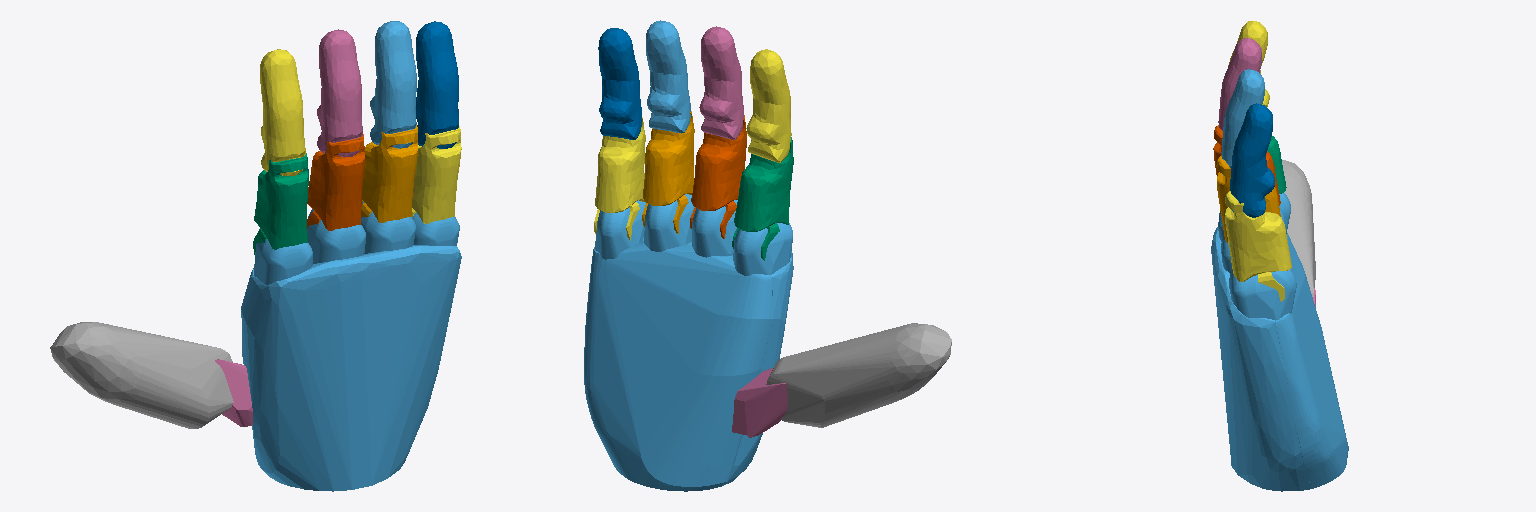
The robot description file, URDF, robot "ability_hand":
<!--
	NOTES:
	Units:
		Distance: m
		Angles: rad (only option)
		Mass: kg
		Inertia: kg*m^2
		
	Notes on intertia:
		-The inertias are calculated for uniform density with weights that may or may not be accurate.
		At the time of this writing only the thumb flexor weight is correct. The palm is a 'best guess' 
		approximation and the fingers are likely off by an order of magnitude
	
	Notes on finger q2:
		-The hand is a 4 bar linkage mechanism forming an 'X'. 4 bar linkages are not supported in the 
		urdf format. The motion of the second finger joint is fully defined by the motion of the first 
		finger joint. The calculation to find the index finger second joint angle given the first is provided
		in a matlab script elsewhere in this repository.
-->
<robot name="ability_hand">


	<link name="base">
		<visual name="wrist_mesh">
			<origin rpy = "0 0 0" xyz = "0 0 0"/>
			<geometry>
				<mesh filename="meshes_use/wristmesh.obj"/>
			</geometry>
		</visual>
		<collision>  													<!-- wrist_mesh -->
		<origin
			xyz="0 0 0"
			rpy="0 0 0" />
		<geometry>
			<mesh
			filename="meshes_use/wristmesh_C.obj" />
		</geometry>
		</collision>
		<collision> 
		<origin
			xyz="0.013 -0.002 0.01"
			rpy="0 0 -0.07" />
		<geometry>
			<box size="0.01 0.01 0.008"/>
		</geometry>
		</collision>
		<collision> 
		<origin
			xyz="-0.013 0 0.01"
			rpy="0 0 -0.07" />
		<geometry>
			<box size="0.01 0.01 0.008"/>
		</geometry>
		</collision>		
		<inertial>	<!-- the mass and inertia here are NOT correct -->
			<mass value = "0.200"/>
			<inertia ixx="978.26e-6" ixy = "87.34e-6" ixz = "322.99e-6" iyy = "1244.78e-6" iyz = "244.74e-6" izz = "456.22e-6" />
			<origin xyz = "22.41911e-3 -0.15798201e-3 -0.01319866e-3" rpy = "0 0 0"/>
		</inertial>
	</link>

	<joint name="wrist2thumb" type="fixed">
		<parent link="base"/>
		<child link="thumb_base"/>
		<origin xyz = "-24.0476665e-3 3.78124745e-3 32.32964923e-3" rpy = "3.14148426 -0.08848813 -3.14036612"/>
	</joint>






  
	<link name="thumb_base" >
		<inertial>
			<mass value = "0.200"/>
			<inertia ixx="978.26e-6" ixy = "87.34e-6" ixz = "322.99e-6" iyy = "1244.78e-6" iyz = "244.74e-6" izz = "456.22e-6" />
			<origin xyz = "22.41911e-3 -0.15798201e-3 -0.01319866e-3" rpy = "0 0 0"/>
		</inertial>
						
		<visual name="palm_mesh">
			<origin rpy = "0 0 0" xyz = "0 0 0"/>
			<geometry>
				<mesh filename="meshes_use/FB_palm_ref_MIR.obj"/>
			</geometry>
		</visual>
		<collision>																  <!-- thumb_base -->
		<origin
			xyz="0 0 0"
			rpy="0 0 0" />
		<geometry>
			<mesh
			filename="meshes_use/FB_palm_ref_MIR_C.obj" />
		</geometry>
		</collision>				
	</link>
	

	



	<link name="index_L1" >
		<inertial>
			<mass value = "0.00635888"/>
			<inertia ixx="0.29766e-6" ixy = "-0.06447133e-6" ixz = "-0.00423315e-6" iyy = "3.6947967e-6" iyz = "0.00083028e-6" izz = "3.8176336e-6" />
			<origin xyz = "22.41911e-3 -0.15798201e-3 -0.01319866e-3" rpy = "0 0 0"/>
		</inertial>
		<visual name="index_mesh_1">
			<origin xyz = "38.472723e-3 3.257695e-3 0.000000" rpy = "0 0 0.084474"/>
			<geometry>
				<mesh filename="meshes_use/idx-F1.obj"/>
			</geometry>
		</visual>
		<collision> 													   			<!-- index_L1 -->
		<origin
			xyz="0.036 -0.00175 0"
			rpy="0 0 0" />
		<geometry>
        	<sphere radius="0.0085"/>
        </geometry>
		</collision>
		<collision> 
		<origin
			xyz="0.019 0.0004 0"
			rpy="0 0 0.0845" />
		<geometry>
			<box size="0.028 0.024 0.016"/>
		</geometry>
		</collision>
		<collision> 
		<origin
			xyz="-0.001 0 0.007"
			rpy="0 0 0.0845" />
		<geometry>
			<box size="0.012 0.012 0.002"/>
		</geometry>
		</collision>
		<collision> 
		<origin
			xyz="-0.001 0 -0.007"
			rpy="0 0 0.0845" />
		<geometry>
			<box size="0.012 0.012 0.002"/>
		</geometry>
		</collision>
	</link>



	<link name="index_L2" >
		<inertial>
			<mass value = "0.00645"/>
			<inertia ixx="0.82671e-6" ixy = "-1.08876e-6" ixz = "-0.00037e-6" iyy = "1.98028e-6" iyz = "0.00081e-6" izz = "2.64638e-6" />
			<origin rpy = "0 0 0" xyz = "13.36818e-3 -8.75392e-3 -0.02886e-3"/>
		</inertial>		
		<visual name="index_mesh_2">
			<origin rpy = "0 0 0" xyz = "9.1241e-3 0 0"/>
			<geometry>
				<mesh filename="meshes_use/idx-F2.obj"/>
			</geometry>
		</visual>
		<collision>  													<!-- index_L2 -->
		<origin
			xyz="0 0 0"
			rpy="0 0 0" />
		<geometry>
			<mesh
			filename="meshes_use/idx-F2_C.obj" />
		</geometry>
		</collision>
		<collision> 
		<origin
			xyz="0.03 -0.016 0"
			rpy="0 0 0" />
		<geometry>
			<sphere radius="0.007"/>
		</geometry>
		</collision>
	</link>
	<joint name="index_q1" type="revolute">
		<parent link="thumb_base"/>
		<child link="index_L1"/>
		<origin xyz = " 9.49e-3 -13.04e-3 -62.95e-3 " rpy = " -1.1595426535897932 1.284473 -1.0510016535897932 " />
		<axis xyz="0 0 1"/>
		<limit lower = "0" upper = "2.0943951" effort = "6.0" velocity = "8.0677777442"/>		<!-- angles in rad, efforts in N-m, velocity in rad/s -->
		<dynamics damping = "0.001" friction = "0.001" />	<!-- Friction coefficient is not from quantitative measurement -->
	</joint>
	<joint name="index_q2" type="revolute">
		<parent link="index_L1"/>
		<child link="index_L2"/>
		<origin xyz = "38.472723e-3 3.257695e-3 0.000000e-3" rpy = "0 0 0.084474"/>
		<axis xyz="0 0 1"/>
		<limit lower = "0.0" upper = "2.6586" effort = "6.0" velocity = "8.0677777442"/>		<!-- angles in rad, efforts in N-m, velocity in rad/s -->
		<dynamics damping = "0.001" friction = "0.001" />	<!-- Friction coefficient is not from quantitative measurement -->
		<mimic joint = "index_q1" multiplier =  "1.05851325" offset = "0.72349796"/>
	</joint>
	<link name="index_anchor"/>
	<joint name="idx_anchor" type="fixed">
		<parent link = "index_L2"/>
		<child link = "index_anchor"/>
		<origin rpy = "0 0 0" xyz = "31.5541e-3  -10.44e-3 0.14e-3"/>
	</joint>
	









	<link name="middle_L1" >
		<inertial>
			<mass value = "0.00635888"/>
			<inertia ixx="0.29766e-6" ixy = "-0.06447133e-6" ixz = "-0.00423315e-6" iyy = "3.6947967e-6" iyz = "0.00083028e-6" izz = "3.8176336e-6" />
			<origin xyz = "22.41911e-3 -0.15798201e-3 -0.01319866e-3" rpy = "0 0 0"/>
		</inertial>
		
		<visual name="middle_mesh_1">
			<origin xyz = "38.472723e-3 3.257695e-3 0.000000" rpy = "0 0 0.084474"/>
			<geometry>
				<mesh filename="meshes_use/idx-F1.obj"/>
			</geometry>
		</visual>
		<collision> 													   			<!-- middle_L1 -->
		<origin
			xyz="0.036 -0.00175 0"
			rpy="0 0 0" />
		<geometry>
        	<sphere radius="0.0085"/>
        </geometry>
		</collision>
		<collision> 
		<origin
			xyz="0.019 0.0004 0"
			rpy="0 0 0.0845" />
		<geometry>
			<box size="0.028 0.024 0.016"/>
		</geometry>
		</collision>
		<collision> 
		<origin
			xyz="-0.001 0 0.007"
			rpy="0 0 0.0845" />
		<geometry>
			<box size="0.012 0.012 0.002"/>
		</geometry>
		</collision>
		<collision> 
		<origin
			xyz="-0.001 0 -0.007"
			rpy="0 0 0.0845" />
		<geometry>
			<box size="0.012 0.012 0.002"/>
		</geometry>
		</collision>
	</link>



	<link name="middle_L2" >
		<inertial>
			<mass value = "0.00645"/>
			<inertia ixx="0.82671e-6" ixy = "-1.08876e-6" ixz = "-0.00037e-6" iyy = "1.98028e-6" iyz = "0.00081e-6" izz = "2.64638e-6" />
			<origin rpy = "0 0 0" xyz = "13.36818e-3 -8.75392e-3 -0.02886e-3"/>
		</inertial>
		<visual name="middle_mesh_2">
			<origin rpy = "0 0 0" xyz = "9.1241e-3 0 0"/>
			<geometry>
				<mesh filename="meshes_use/idx-F2.obj"/>
			</geometry>
		</visual>
		<collision>  													<!-- middle_L2 -->
		<origin
			xyz="0 0 0"
			rpy="0 0 0" />
		<geometry>
			<mesh
			filename="meshes_use/idx-F2_C.obj" />
		</geometry>
		</collision>
		<collision> 
		<origin
			xyz="0.03 -0.016 0"
			rpy="0 0 0" />
		<geometry>
			<sphere radius="0.007"/>
		</geometry>
		</collision>
	</link>
	<joint name="middle_q1" type="revolute">
		<parent link="thumb_base"/>
		<child link="middle_L1"/>
		<origin xyz = " -9.653191e-3 -15.310271e-3 -67.853949e-3 " rpy = " -1.2810616535897934 1.308458 -1.2453756535897933 " />
		<limit lower = "0" upper = "2.0943951" effort = "6.0" velocity = "8.0677777442"/>		<!-- angles in rad, efforts in N-m, velocity in rad/s -->
		<dynamics damping = "0.001" friction = "0.001" />	<!-- Friction coefficient is not from quantitative measurement -->
		<axis xyz="0 0 1"/>
	</joint>
	<joint name="middle_q2" type="revolute">
		<parent link="middle_L1"/>
		<child link="middle_L2"/>
		<origin xyz = "38.472723e-3 3.257695e-3 0.000000" rpy = "0 0 0.084474"/>
		<axis xyz="0 0 1"/>
		<limit lower = "0.0" upper = "2.6586" effort = "6.0" velocity = "8.0677777442"/>		<!-- angles in rad, efforts in N-m, velocity in rad/s -->
		<dynamics damping = "0.001" friction = "0.001" />	<!-- Friction coefficient is not from quantitative measurement -->
		<mimic joint = "middle_q1" multiplier =  "1.05851325" offset = "0.72349796"/>
	</joint>
	<link name="middle_anchor"/>
	<joint name="mid_anchor" type="fixed">
		<parent link = "middle_L2"/>
		<child link = "middle_anchor"/>
		<origin rpy = "0 0 0" xyz = "31.5541e-3  -10.44e-3 0.14e-3"/>
	</joint>







	<link name="ring_L1" >
		<inertial>
			<mass value = "0.00635888"/>
			<inertia ixx="0.29766e-6" ixy = "-0.06447133e-6" ixz = "-0.00423315e-6" iyy = "3.6947967e-6" iyz = "0.00083028e-6" izz = "3.8176336e-6" />
			<origin xyz = "22.41911e-3 -0.15798201e-3 -0.01319866e-3" rpy = "0 0 0"/>
		</inertial>
		
		<visual name="ring_mesh_1">
			<origin xyz = "38.472723e-3 3.257695e-3 0.000000" rpy = "0 0 0.084474"/>
			<geometry>
				<mesh filename="meshes_use/idx-F1.obj"/>
			</geometry>
		</visual>
		<collision> 													   			<!-- ring_L1 -->
		<origin
			xyz="0.036 -0.00175 0"
			rpy="0 0 0" />
		<geometry>
        	<sphere radius="0.0085"/>
        </geometry>
		</collision>
		<collision> 
		<origin
			xyz="0.019 0.0009 0"
			rpy="0 0 0.0845" />
		<geometry>
			<box size="0.028 0.024 0.016"/>
		</geometry>
		</collision>
		<collision> 
		<origin
			xyz="-0.001 0 0.007"
			rpy="0 0 0.0845" />
		<geometry>
			<box size="0.012 0.012 0.002"/>
		</geometry>
		</collision>
		<collision> 
		<origin
			xyz="-0.001 0 -0.007"
			rpy="0 0 0.0845" />
		<geometry>
			<box size="0.012 0.012 0.002"/>
		</geometry>
		</collision>
	</link>


	<link name="ring_L2" >
		<inertial>
			<mass value = "0.00645"/>
			<inertia ixx="0.82671e-6" ixy = "-1.08876e-6" ixz = "-0.00037e-6" iyy = "1.98028e-6" iyz = "0.00081e-6" izz = "2.64638e-6" />
			<origin rpy = "0 0 0" xyz = "13.36818e-3 -8.75392e-3 -0.02886e-3"/>
		</inertial>
		<visual name="ring_mesh_2">
			<origin rpy = "0 0 0" xyz = "9.1241e-3 0 0"/>
			<geometry>
				<mesh filename="meshes_use/idx-F2.obj"/>
			</geometry>
		</visual>	
		<collision>  													<!-- ring_L2 -->
		<origin
			xyz="0 0 0"
			rpy="0 0 0" />
		<geometry>
			<mesh
			filename="meshes_use/idx-F2_C.obj" />
		</geometry>
		</collision>
		<collision> 
		<origin
			xyz="0.03 -0.016 0"
			rpy="0 0 0" />
		<geometry>
			<sphere radius="0.007"/>
		</geometry>
		</collision>			
	</link>
	<joint name="ring_q1" type="revolute">
		<parent link="thumb_base"/>
		<child link="ring_L1"/>
		<origin xyz = " -29.95426e-3 -14.212492e-3 -67.286105e-3 " rpy = " -1.424994653589793 1.321452 -1.4657306535897934 " />
		<limit lower = "0" upper = "2.0943951" effort = "6.0" velocity = "8.0677777442"/>		<!-- angles in rad, efforts in N-m, velocity in rad/s -->
		<dynamics damping = "0.001" friction = "0.001" />	<!-- Friction coefficient is not from quantitative measurement -->
		<axis xyz="0 0 1"/>
	</joint>
	<joint name="ring_q2" type="revolute">
		<parent link="ring_L1"/>
		<child link="ring_L2"/>
		<origin xyz = "38.472723e-3 3.257695e-3 0.000000" rpy = "0 0 0.084474"/>
		<axis xyz="0 0 1"/>
		<limit lower = "0.0" upper = "2.6586" effort = "6.0" velocity = "8.0677777442"/>		<!-- angles in rad, efforts in N-m, velocity in rad/s -->
		<dynamics damping = "0.001" friction = "0.001" />	<!-- Friction coefficient is not from quantitative measurement -->
		<mimic joint = "ring_q1" multiplier =  "1.05851325" offset = "0.72349796"/>
	</joint>
	<link name="ring_anchor"/>
	<joint name="rng_anchor" type="fixed">
		<parent link = "ring_L2"/>
		<child link = "ring_anchor"/>
		<origin rpy = "0 0 0" xyz = "31.5541e-3  -10.44e-3 0.14e-3"/>
	</joint>







	<link name="pinky_L1" >
		<inertial>
			<mass value = "0.00635888"/>
			<inertia ixx="0.29766e-6" ixy = "-0.06447133e-6" ixz = "-0.00423315e-6" iyy = "3.6947967e-6" iyz = "0.00083028e-6" izz = "3.8176336e-6" />
			<origin xyz = "22.41911e-3 -0.15798201e-3 -0.01319866e-3" rpy = "0 0 0"/>
		</inertial>
		
		<visual name="pinky_mesh_1">
			<origin xyz = "38.472723e-3 3.257695e-3 0.000000" rpy = "0 0 0.084474"/>
			<geometry>
				<mesh filename="meshes_use/idx-F1.obj"/>
			</geometry>
		</visual>
		<collision> 													   			<!-- pinky_L1 -->
		<origin
			xyz="0.036 -0.00175 0"
			rpy="0 0 0" />
		<geometry>
        	<sphere radius="0.0085"/>
        </geometry>
		</collision>
		<collision> 
		<origin
			xyz="0.019 0.0009 0"
			rpy="0 0 0.0845" />
		<geometry>
			<box size="0.028 0.024 0.016"/>
		</geometry>
		</collision>
		<collision> 
		<origin
			xyz="-0.001 0 0.007"
			rpy="0 0 0.0845" />
		<geometry>
			<box size="0.012 0.012 0.002"/>
		</geometry>
		</collision>
		<collision> 
		<origin
			xyz="-0.001 0 -0.007"
			rpy="0 0 0.0845" />
		<geometry>
			<box size="0.012 0.012 0.002"/>
		</geometry>
		</collision>
	</link>


	<link name="pinky_L2" >
		<inertial>
			<mass value = "0.00645"/>
			<inertia ixx="0.82671e-6" ixy = "-1.08876e-6" ixz = "-0.00037e-6" iyy = "1.98028e-6" iyz = "0.00081e-6" izz = "2.64638e-6" />
			<origin rpy = "0 0 0" xyz = "13.36818e-3 -8.75392e-3 -0.02886e-3"/>
		</inertial>
		<visual name="pinky_mesh_2">
			<origin rpy = "0 0 0" xyz = "9.1241e-3 0 0"/>
			<geometry>
				<mesh filename="meshes_use/idx-F2.obj"/>
			</geometry>
		</visual>
		<collision>  													<!-- pinky_L2 -->
		<origin
			xyz="0 0 0"
			rpy="0 0 0" />
		<geometry>
			<mesh
			filename="meshes_use/idx-F2_C.obj" />
		</geometry>
		</collision>
		<collision> 
		<origin
			xyz="0.03 -0.016 0"
			rpy="0 0 0" />
		<geometry>
			<sphere radius="0.007"/>
		</geometry>
		</collision>		
	</link>
	<joint name="pinky_q1" type="revolute">
		<parent link="thumb_base"/>
		<child link="pinky_L1"/>
		<origin xyz = " -49.521293e-3 -11.004583e-3 -63.029065e-3 " rpy = " -1.3764826535897934 1.32222 -1.4832096535897932 " />
		<limit lower = "0" upper = "2.0943951" effort = "6.0" velocity = "8.0677777442"/>		<!-- angles in rad, efforts in N-m, velocity in rad/s -->
		<dynamics damping = "0.001" friction = "0.001" />	<!-- Friction coefficient is not from quantitative measurement -->
		<axis xyz="0 0 1"/>
	</joint>
	<joint name="pinky_q2" type="revolute">
		<parent link="pinky_L1"/>
		<child link="pinky_L2"/>
		<origin xyz = "38.472723e-3 3.257695e-3 0.000000" rpy = "0 0 0.084474"/>
		<limit lower = "0.0" upper = "2.6586" effort = "6.0" velocity = "8.0677777442"/>		<!-- angles in rad, efforts in N-m, velocity in rad/s -->
		<dynamics damping = "0.001" friction = "0.001" />	<!-- Friction coefficient is not from quantitative measurement -->
		<axis xyz="0 0 1"/>
		<mimic joint = "pinky_q1" multiplier =  "1.05851325" offset = "0.72349796"/>
	</joint>
	<link name="pinky_anchor"/>
	<joint name="pnky_anchor" type="fixed">
		<parent link = "pinky_L2"/>
		<child link = "pinky_anchor"/>
		<origin rpy = "0 0 0" xyz = "31.5541e-3  -10.44e-3 0.14e-3"/>
	</joint>









	<link name="thumb_L1" >
		<inertial>
			<mass value = "0.00268342"/>
			<inertia ixx="0.16931e-6" ixy = "-0.076214e-6" ixz = "-0.16959148e-6" iyy = "0.77769934e-6" iyz = "0.0156622e-6" izz = "0.7249122e-6" />
			<origin rpy = "0 0 0" xyz = "14.606e-3 -1.890854e-3 -3.1155356e-3"/>
		</inertial>
		
		<visual name="thumb_mesh_1">
			<origin xyz = " 27.8283501e-3 1.7436510745838653e-19 14.7507e-3 " rpy = " 1.832595714594045 -0.0 5.366520605522463e-18 " />
			<geometry>
				<mesh filename="meshes_use/thumb-F1-MIR.obj"/>
			</geometry>
		</visual>
		<collision>  													<!-- thumb_L1 -->
		<origin
			xyz="27.8283501e-3 1.7436510745838653e-19 14.7507e-3"
			rpy="1.832595714594045 -0.0 5.366520605522463e-18" />
		<geometry>
			<mesh
			filename="meshes_use/thumb-F1-MIR_C.obj" />
		</geometry>
		</collision>
	</link>


	<link name="thumb_L2" >
		<inertial>
			<mass value = "0.0055"/>
			<inertia ixx="4.4789082e-6" ixy = "4.4789082e-6" ixz = "-0.62144934e-6" iyy = "15.600996e-6" iyz = "-0.07466143e-6" izz = "17.908554e-6" />
			<origin rpy = "0 0 0" xyz = "30.020522e-3 5.59476e-3 -4.1504356e-3"/>
		</inertial>
		
		<visual name="thumb_mesh_2">
			<origin xyz = "65.18669e-3 23.34021e-3 3.93483e-3" rpy = "-3.141592 0 0.343830"/>
			<geometry>
				<mesh filename="meshes_use/thumb-F2.obj"/>
			</geometry>
		</visual>
		<collision>  													<!-- thumb_L2 -->
		<origin
			xyz="65.18669e-3 23.34021e-3 3.93483e-3"
			rpy="-3.141592 0 0.343830" />
		<geometry>
			<mesh
			filename="meshes_use/thumb-F2_C.obj" />
		</geometry>
		</collision>
	</link>

	<joint name="thumb_q1" type="revolute">
		<parent link="thumb_base"/>
		<child link="thumb_L1"/>
		<origin xyz = " 0.0 0.0 0.0 " rpy = " 3.141592653589793 -0.0 -0.18884434641020664 " />
		<axis xyz="0 0 1"/>
		<limit lower = "-2.0943951" upper = "0" effort = "1.2" velocity = "40.338888721"/>		<!-- angles in rad, efforts in N-m, velocity in rad/s -->
		<dynamics damping = "0.001" friction = "0.001" />	<!-- Friction coefficient is not from quantitative measurement -->
	</joint>
	<joint name="thumb_q2" type="revolute">
		<parent link="thumb_L1"/>
		<child link="thumb_L2"/>
		<origin xyz = " 27.8283501e-3 1.7436510745838653e-19 14.7507e-3 " rpy = " 1.832595714594045 -0.0 5.366520605522463e-18 " />
		<axis xyz="0 0 1"/>
		<limit lower = "0" upper = "2.0943951" effort = "6.0" velocity = "8.0677777442"/>		<!-- angles in rad, efforts in N-m, velocity in rad/s -->
		<dynamics damping = "0.001" friction = "0.001" />	<!-- Friction coefficient is not from quantitative measurement -->		
	</joint>
	<link name="thumb_anchor"/>
	<joint name="thmb_anchor" type="fixed">
		<parent link = "thumb_L2"/>
		<child link = "thumb_anchor"/>
		<origin rpy = "0 0 0" xyz = "52.00122724e-3 28.00869333e-3 6.98483578e-3"/>
	</joint>
</robot>

--- Render facts (derived) ---
Views: 3 orthographic renders of the robot side by side, from view 1: azimuth 30°, elevation 25°; view 2: azimuth 150°, elevation 25°; view 3: azimuth 270°, elevation 25°.
Model ability_hand with 17 links and 16 joints (10 revolute, 6 fixed), rooted at base, posed every joint at zero.
Visible links, largest first — view 1: thumb_base, thumb_L2, ring_L2, middle_L2, pinky_L2, index_L2, middle_L1, ring_L1, index_L1, pinky_L1, thumb_L1; view 2: thumb_base, thumb_L2, ring_L2, middle_L2, index_L2, pinky_L2, index_L1, ring_L1, middle_L1, pinky_L1, thumb_L1; view 3: thumb_base, pinky_L1, pinky_L2, thumb_L2, ring_L2, middle_L2, ring_L1, index_L2.
Link boxes in pixels (x1,y1,x2,y2): thumb_base: [241, 201, 461, 491]; thumb_L2: [50, 322, 233, 428]; ring_L2: [370, 21, 416, 148]; middle_L2: [317, 29, 362, 156]; pinky_L2: [416, 21, 458, 148]; index_L2: [260, 49, 305, 175]; middle_L1: [307, 134, 364, 230]; ring_L1: [361, 125, 417, 222]; index_L1: [253, 153, 308, 254]; pinky_L1: [412, 126, 461, 223]; thumb_L1: [215, 359, 252, 426]; thumb_base: [584, 194, 793, 491]; thumb_L2: [766, 323, 951, 427]; ring_L2: [646, 20, 690, 133]; middle_L2: [699, 26, 743, 139]; index_L2: [746, 49, 791, 162]; pinky_L2: [598, 28, 641, 139]; index_L1: [732, 137, 793, 260]; ring_L1: [642, 111, 694, 233]; middle_L1: [690, 115, 746, 238]; pinky_L1: [594, 117, 645, 240]; thumb_L1: [732, 368, 787, 437]; thumb_base: [1211, 193, 1348, 491]; pinky_L1: [1225, 191, 1291, 301]; pinky_L2: [1230, 103, 1274, 217]; thumb_L2: [1282, 160, 1315, 296]; ring_L2: [1221, 69, 1264, 175]; middle_L2: [1218, 38, 1261, 130]; ring_L1: [1216, 155, 1280, 242]; index_L2: [1228, 21, 1269, 106].
Bounding box of the posed robot: 0.1566 × 0.053 × 0.1779 m (x, y, z).
12 mesh visuals loaded from 6 distinct referenced files (6 OBJ).